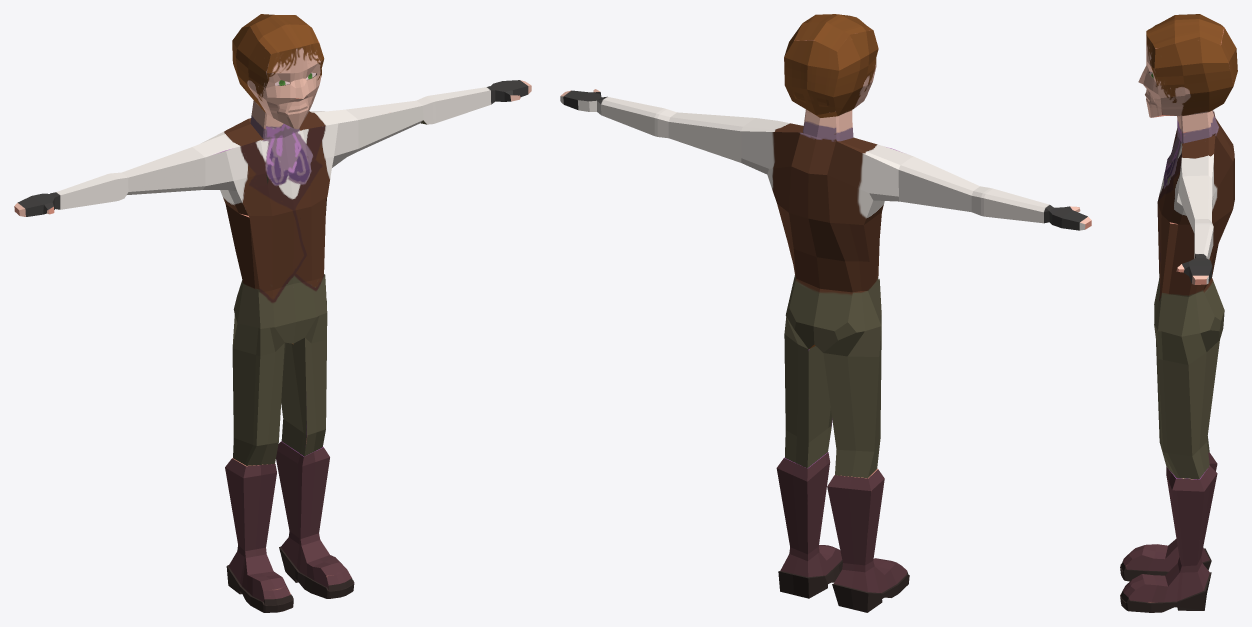
The picture shows the model from 3 angles, left to right: view 1: azimuth 30°, elevation 25°; view 2: azimuth 150°, elevation 25°; view 3: azimuth 270°, elevation 25°; orthographic projection. The views are drawn at different scales.
Parts seen in each view (by area): view 1: Cube; view 2: Cube; view 3: Cube.
Boxes of the visible parts, x1=… form: Cube: x1=14, y1=14, x2=531, y2=612; Cube: x1=560, y1=14, x2=1091, y2=612; Cube: x1=1120, y1=14, x2=1237, y2=612.
Size of the model in its own units: 13.03 by 13.68 by 2.56.
1 material, 1 textured.
